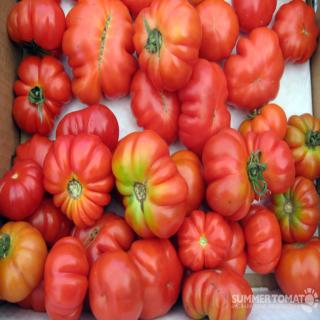tomato: (110, 128, 188, 240), (64, 0, 138, 105), (41, 132, 116, 229), (133, 0, 202, 92), (202, 129, 268, 221), (222, 24, 286, 112), (177, 57, 231, 155), (11, 56, 71, 138), (126, 235, 182, 316), (128, 67, 182, 145), (245, 127, 298, 203), (88, 248, 144, 319), (70, 204, 134, 266), (176, 208, 234, 272), (183, 266, 254, 318), (6, 0, 67, 60), (43, 235, 86, 319), (0, 218, 44, 299), (269, 178, 319, 246), (270, 0, 319, 65), (239, 200, 282, 274), (276, 235, 319, 301), (195, 0, 240, 62), (54, 104, 119, 146), (0, 160, 44, 220), (284, 111, 320, 179), (28, 196, 70, 247), (171, 149, 205, 209), (238, 102, 288, 136), (232, 0, 279, 34), (15, 132, 56, 162)
